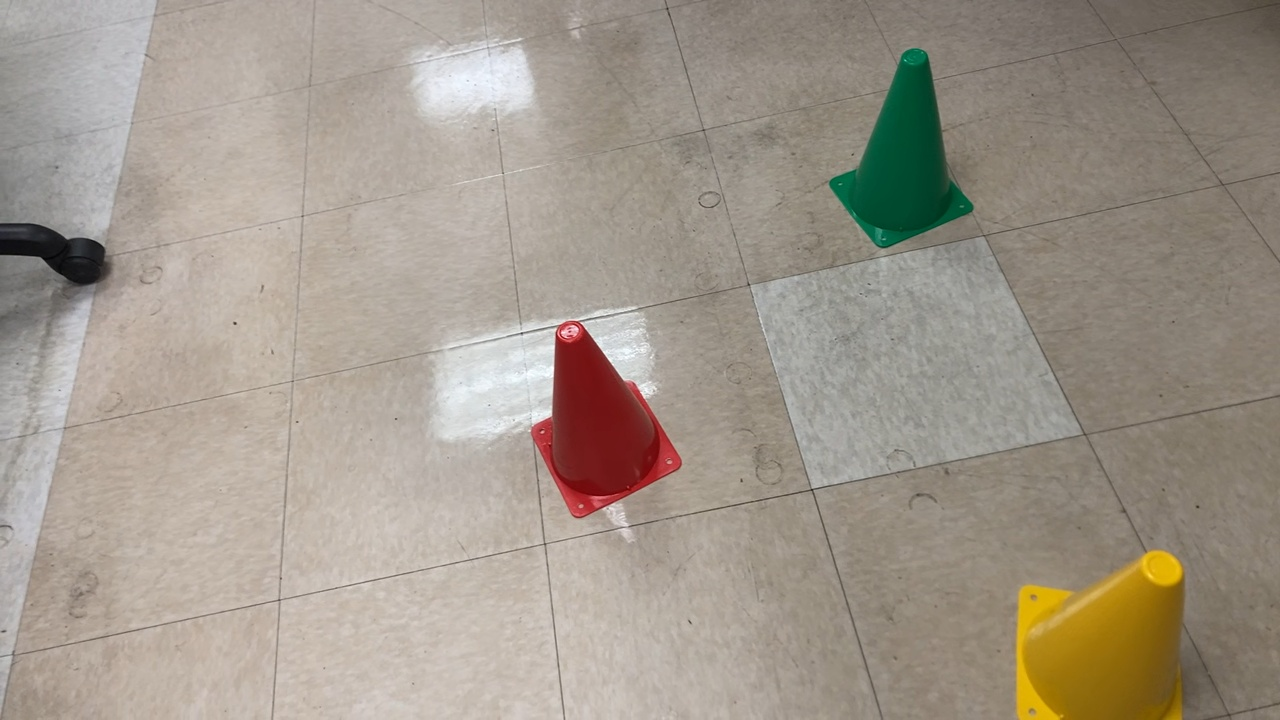green_cone: (823, 46, 979, 251)
red_cone: (527, 316, 686, 524)
yellow_cone: (1006, 544, 1189, 720)
